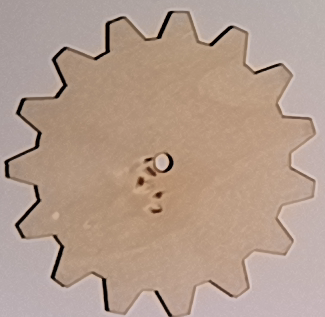Points: (144, 165, 159, 178), (134, 176, 146, 188), (152, 189, 165, 200), (149, 207, 165, 215), (142, 155, 155, 164)
